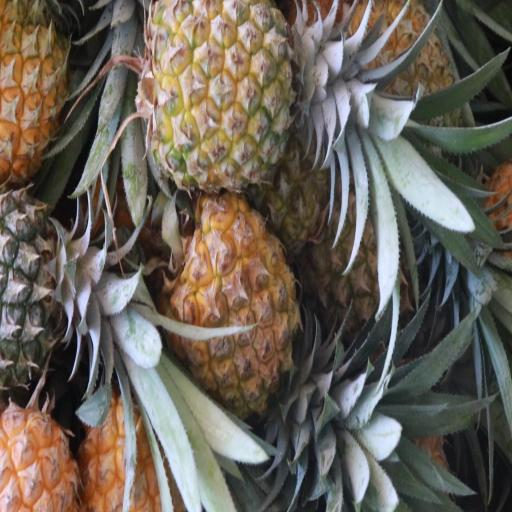------------------------------: (338, 0, 451, 169)
Pineapple - v8 v1: (160, 191, 294, 420), (143, 0, 296, 188), (0, 0, 69, 184)
